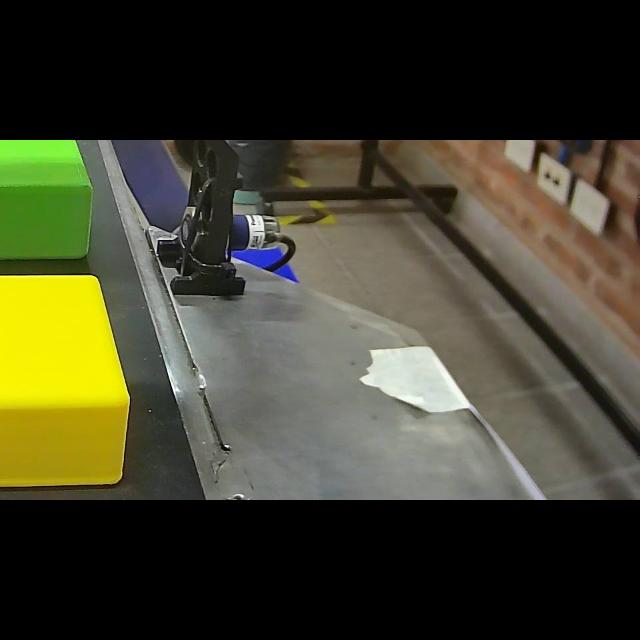greenBox: (1, 140, 98, 268)
yellowBox: (1, 266, 138, 494)
